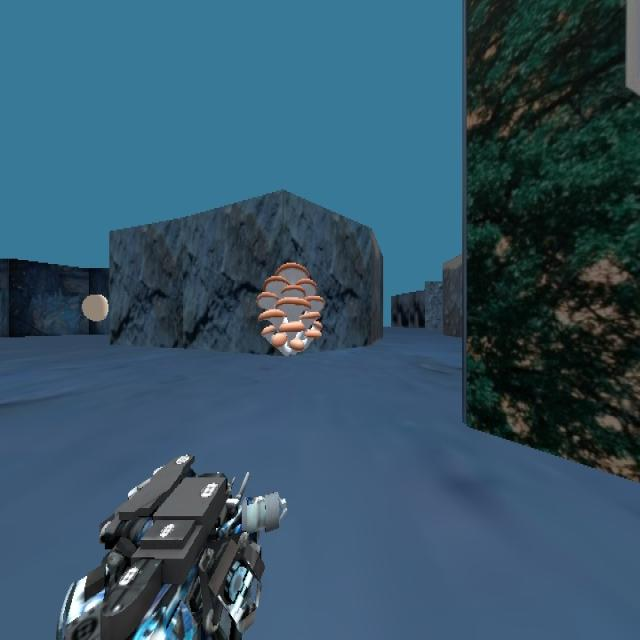Circle: (76, 280, 116, 330)
Mushroom: (256, 260, 325, 356)
Stop_Sign: (623, 0, 639, 97)
